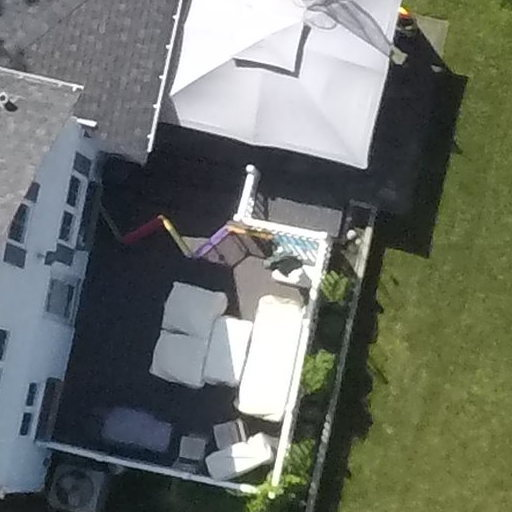air conditioner: (36, 450, 117, 512)
porch: (31, 183, 411, 512)
tent: (138, 1, 405, 175)
